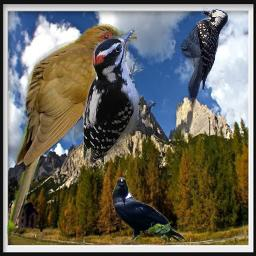Crow: (111, 177, 187, 245)
Cuckoo: (7, 22, 137, 240)
Woodpecker: (83, 28, 156, 164), (179, 4, 228, 112)
